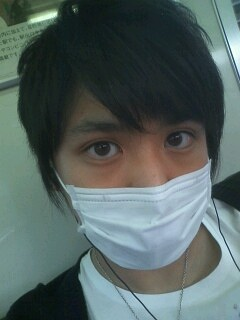face_mask: (59, 52, 211, 275)
